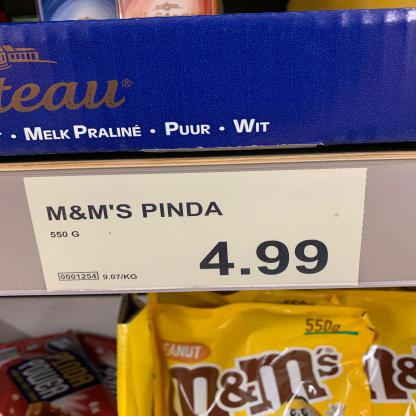prtg: (23, 169, 371, 293)
